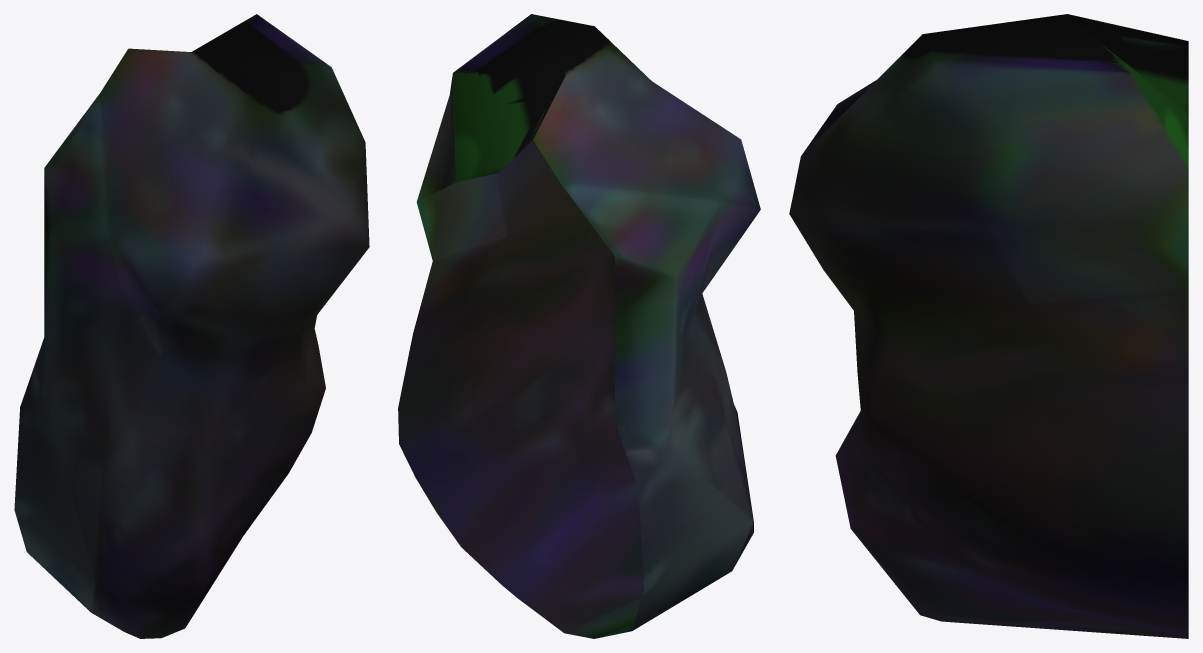
File: rock1.fbx
3 renders of one model, left to right at view 1: azimuth 30°, elevation 25°; view 2: azimuth 150°, elevation 25°; view 3: azimuth 270°, elevation 25°, orthographic. The views are drawn at different scales.
Visible parts, largest first — view 1: Sphere.007; view 2: Sphere.007; view 3: Sphere.007.
Boxes of the visible parts, x1,y1,x2,y2 form: Sphere.007: (14,14,369,638); Sphere.007: (398,14,760,638); Sphere.007: (789,14,1188,638).
Bounding box in the file's own units: 4307 × 8023 × 4392.
